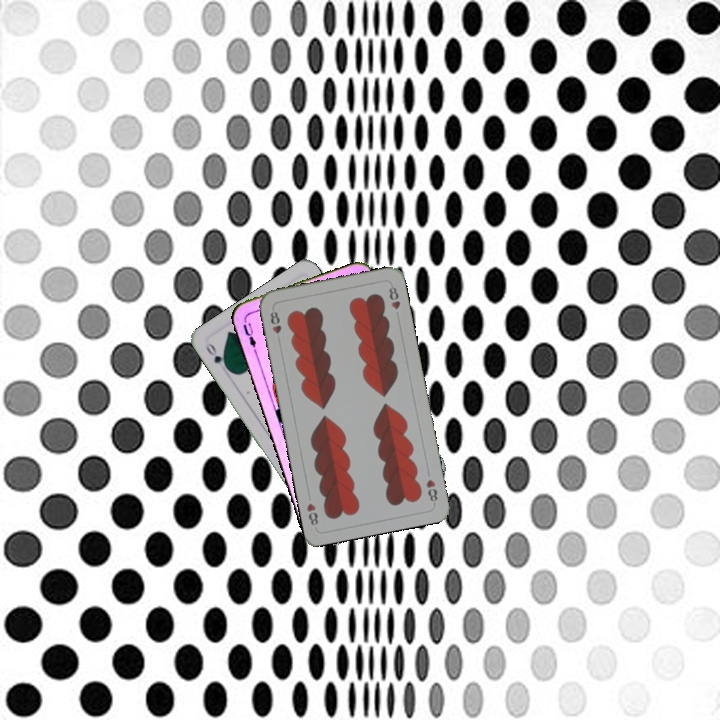EU: (239, 319, 259, 354)
GO: (201, 339, 232, 373)
H8: (422, 475, 440, 506), (266, 307, 284, 337)
